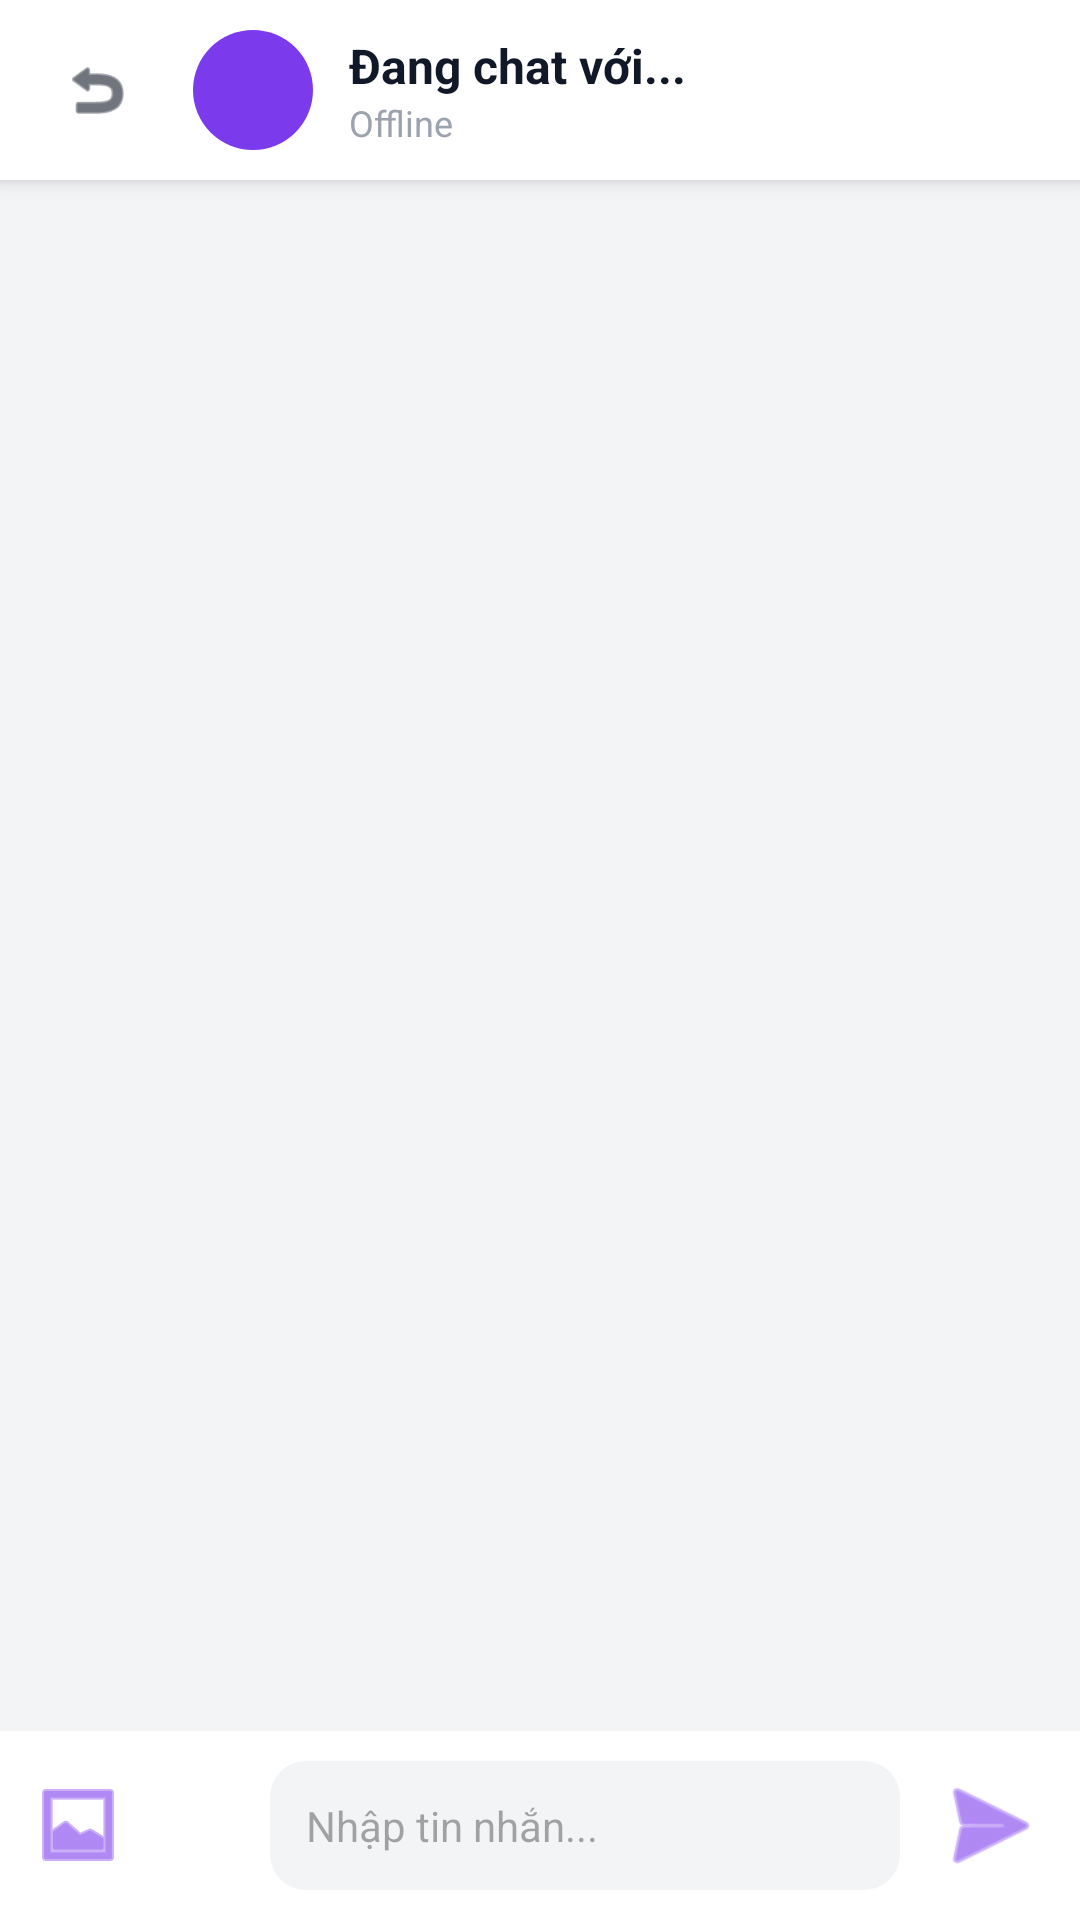

Screen size 1080*1920. Icon name, then its box in pixels as [x1, y1, x2, y2]:
gallery: [42, 1789, 114, 1861]
revert: [72, 67, 124, 114]
send: [953, 1788, 1029, 1863]
